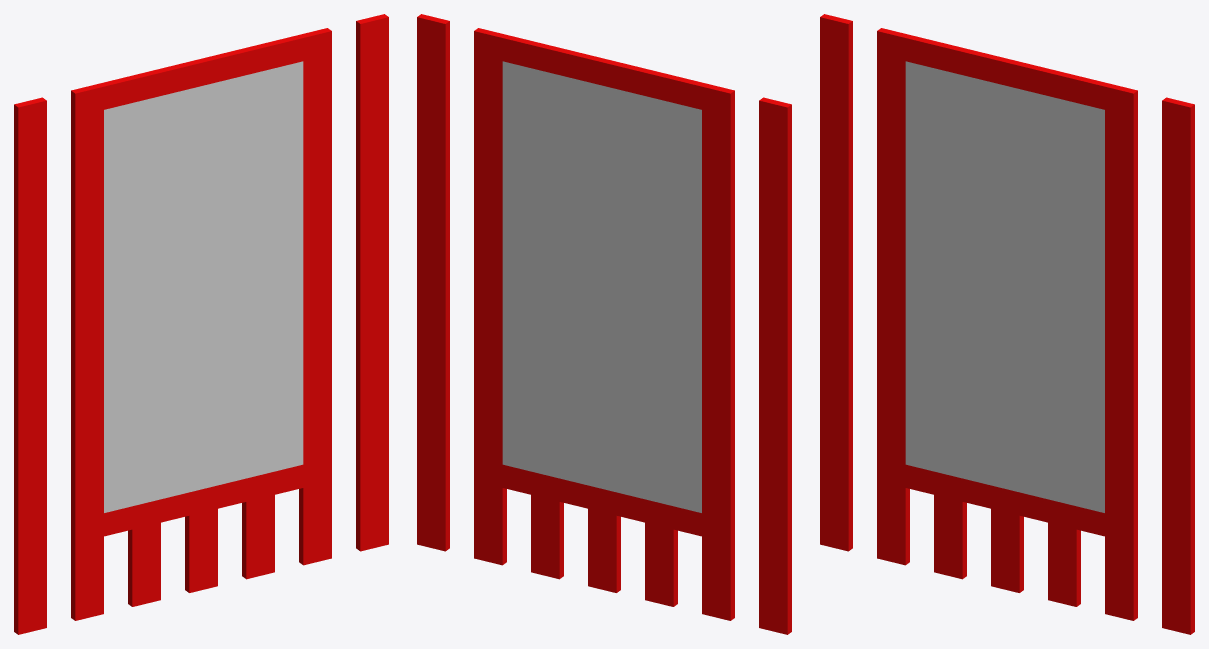
File: Bandera.glb
The picture shows the model from 3 angles, left to right: view 1: azimuth 30°, elevation 25°; view 2: azimuth 150°, elevation 25°; view 3: azimuth 330°, elevation 25°; orthographic projection.
Visible parts, largest first — view 1: Bandera; view 2: Bandera; view 3: Bandera.
Part boxes in pixels (bbox=[...]): Bandera: bbox=[14, 14, 388, 634]; Bandera: bbox=[417, 14, 791, 634]; Bandera: bbox=[820, 14, 1194, 634].
Bounding box in the file's own units: 1 × 1.36 × 0.02.
